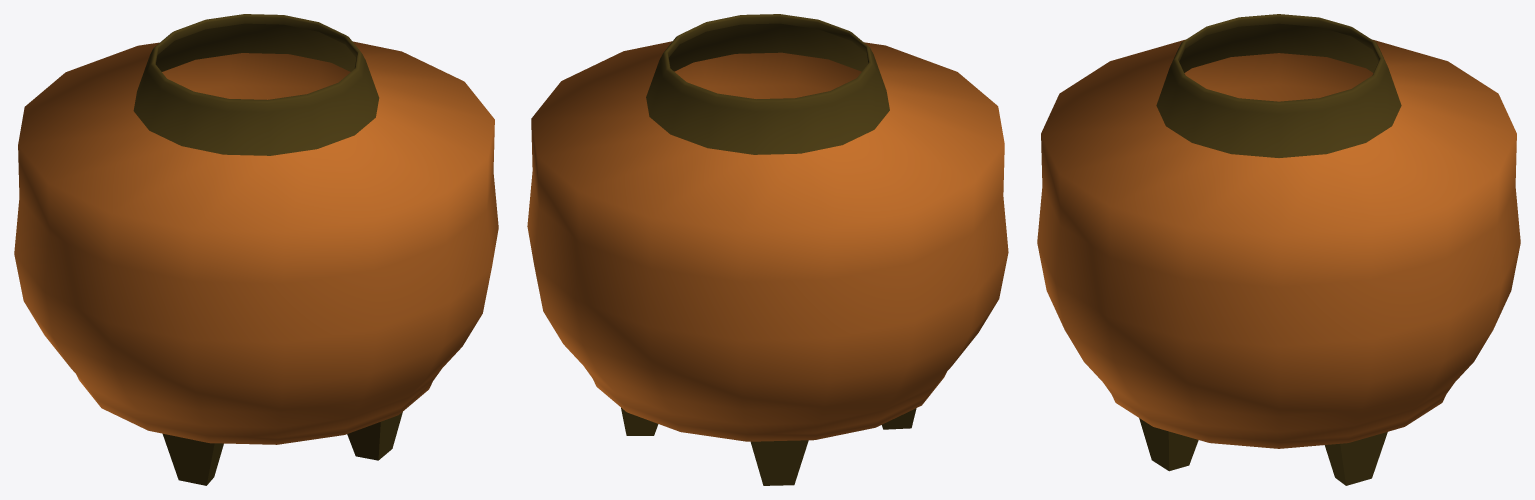
File: vaso2.FBX
The picture shows the model from 3 angles, left to right: view 1: azimuth 30°, elevation 25°; view 2: azimuth 150°, elevation 25°; view 3: azimuth 270°, elevation 25°; orthographic projection.
Parts seen in each view (by area): view 1: Teapot001; view 2: Teapot001; view 3: Teapot001.
Boxes of the visible parts, bbox=[...] form: Teapot001: bbox=[14, 14, 498, 485]; Teapot001: bbox=[527, 14, 1008, 485]; Teapot001: bbox=[1037, 14, 1520, 485].
Bounding box in the file's own units: 19.7 × 16.68 × 19.41.
